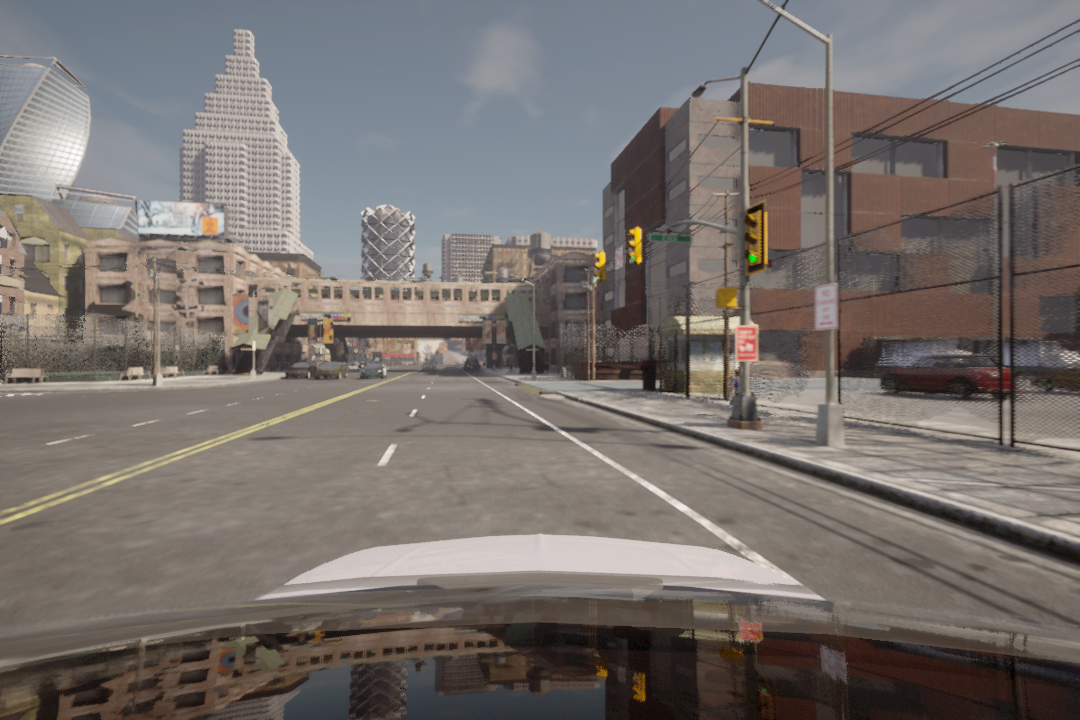TrafficLight: (743, 206, 767, 271), (623, 223, 646, 265), (593, 250, 606, 282)
